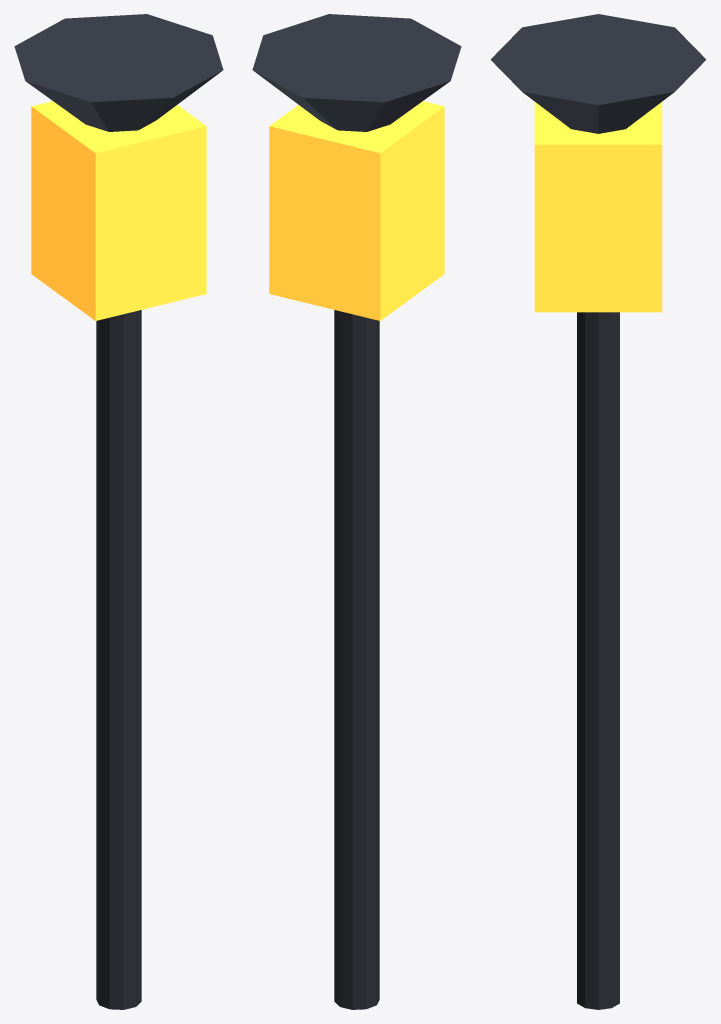
File: lamp_post.glb
3 views of the same model, side by side, from view 1: azimuth 30°, elevation 25°; view 2: azimuth 150°, elevation 25°; view 3: azimuth 270°, elevation 25° (orthographic).
Parts seen in each view (by area): view 1: Lantern, Pole, Cap; view 2: Lantern, Pole, Cap; view 3: Pole, Lantern, Cap.
Boxes of the visible parts, left/top/right/bottom form: Lantern: left=31, top=101, right=206, bottom=320; Pole: left=96, top=310, right=141, bottom=1009; Cap: left=14, top=14, right=223, bottom=131; Lantern: left=269, top=101, right=444, bottom=320; Pole: left=334, top=310, right=379, bottom=1009; Cap: left=252, top=14, right=461, bottom=131; Pole: left=577, top=312, right=619, bottom=1009; Lantern: left=534, top=102, right=662, bottom=312; Cap: left=490, top=14, right=706, bottom=133.
Bounding box in the file's own units: 0.76 × 3.65 × 0.76.
